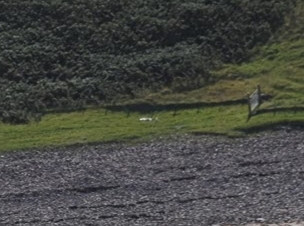white_in_green: (128, 104, 167, 136)
